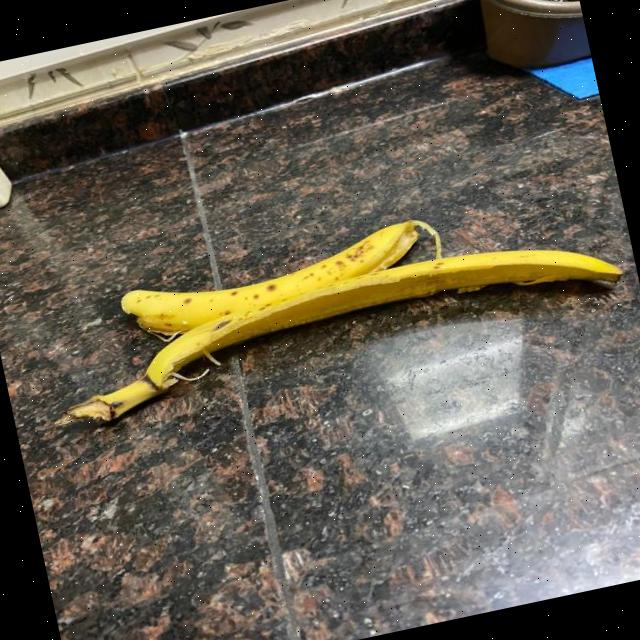banana-peel: (35, 217, 630, 433), (115, 212, 448, 344)
